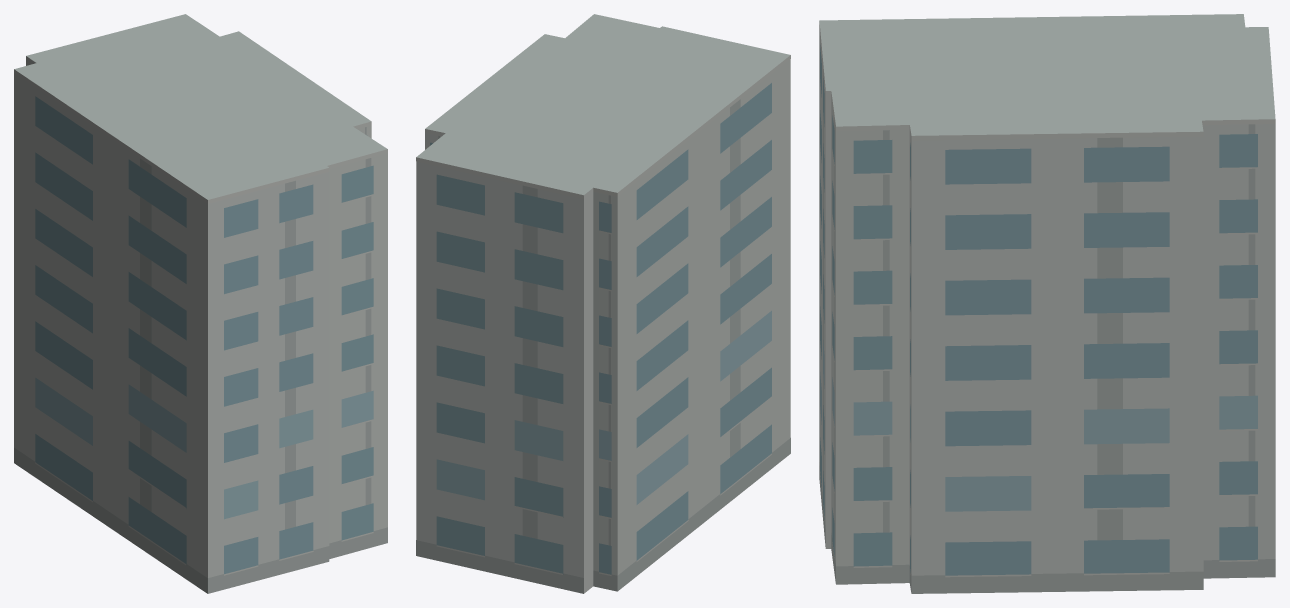
Rendered from survey-upis-32781160.glb.
3 renders of one model, left to right at view 1: azimuth 30°, elevation 25°; view 2: azimuth 150°, elevation 25°; view 3: azimuth 270°, elevation 25°, orthographic. The views are drawn at different scales.
Parts seen in each view (by area): view 1: survey-upis-32781160.tmp; view 2: survey-upis-32781160.tmp; view 3: survey-upis-32781160.tmp.
Boxes of the visible parts, left/top/right/bottom form: survey-upis-32781160.tmp: left=14, top=14, right=387, bottom=593; survey-upis-32781160.tmp: left=416, top=14, right=790, bottom=593; survey-upis-32781160.tmp: left=819, top=14, right=1275, bottom=593.
Size of the model in its own units: 13.42 by 23.5 by 21.22.
